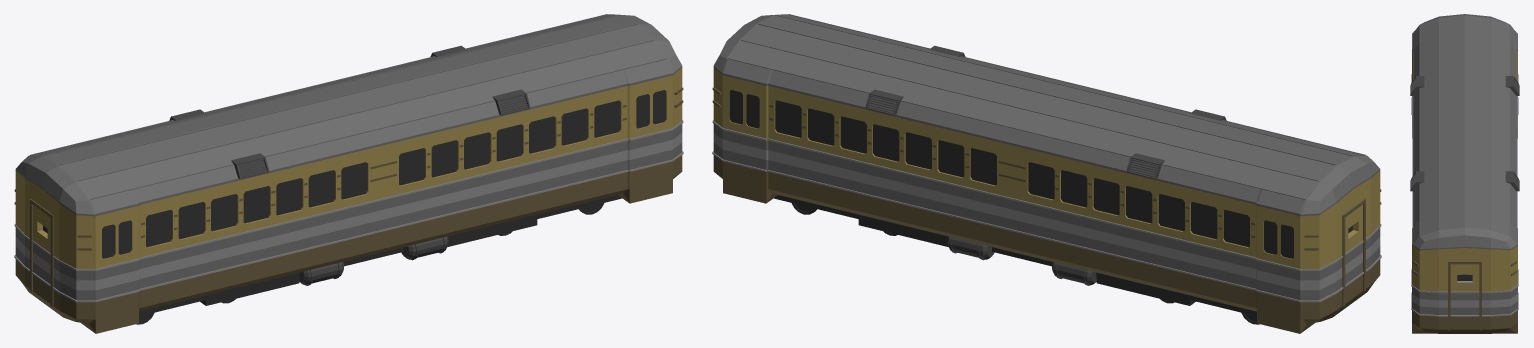
Rendered from cargo_train_wagon.glb.
3 renders of one model, left to right at view 1: azimuth 30°, elevation 25°; view 2: azimuth 150°, elevation 25°; view 3: azimuth 270°, elevation 25°, orthographic. The views are drawn at different scales.
Parts seen in each view (by area): view 1: _MeshInstance3D_363; view 2: _MeshInstance3D_363; view 3: _MeshInstance3D_363.
Part boxes in pixels (left/top/right/bottom): _MeshInstance3D_363: left=14, top=14, right=683, bottom=333; _MeshInstance3D_363: left=712, top=14, right=1381, bottom=333; _MeshInstance3D_363: left=1410, top=14, right=1519, bottom=333.
Bounding box in the file's own units: 10.25 × 2.62 × 2.1.
